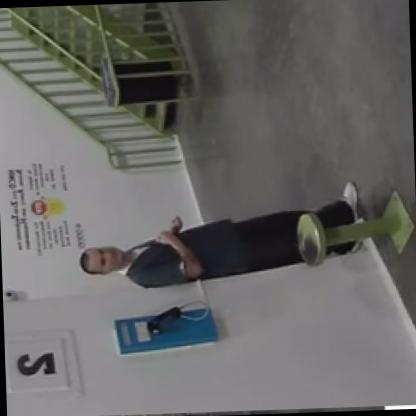Human Body: (69, 170, 376, 302)
